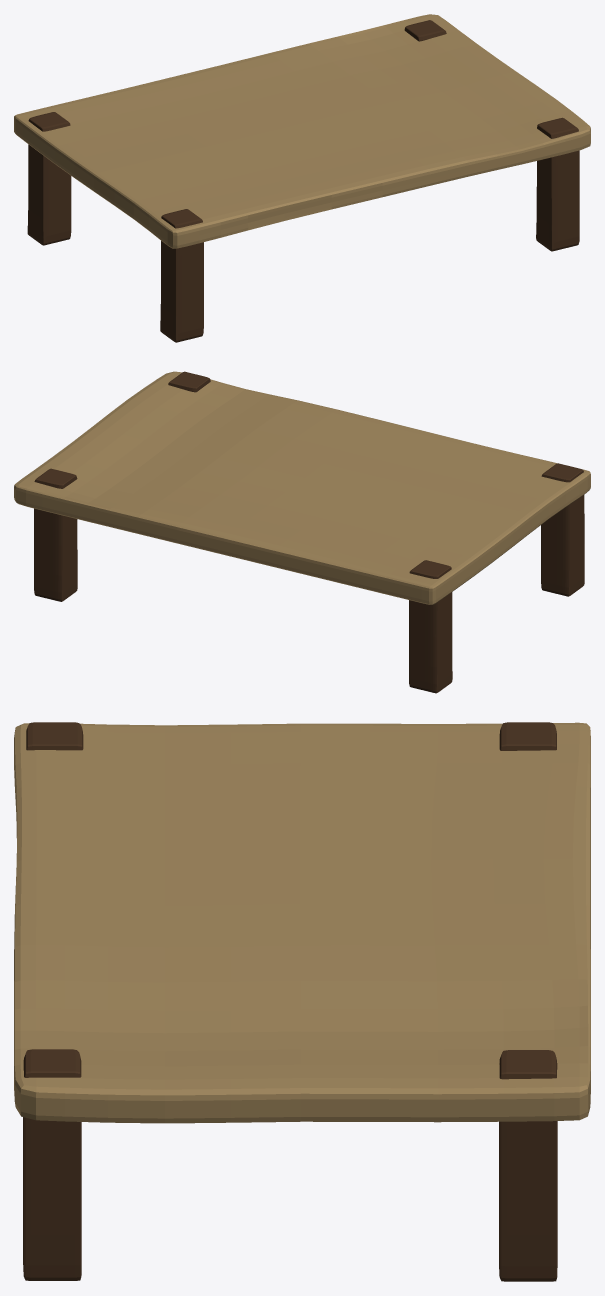
File: Dining_Table (1).fbx
3 renders of one model, top to bottom at view 1: azimuth 30°, elevation 25°; view 2: azimuth 150°, elevation 25°; view 3: azimuth 270°, elevation 25°, orthographic. The views are drawn at different scales.
Parts seen in each view (by area): view 1: Table, Table_leftleg.001, Table_leftleg, Table_rightleg, Table_rightleg.001; view 2: Table, Table_rightleg, Table_rightleg.001, Table_leftleg, Table_leftleg.001; view 3: Table, Table_rightleg.001, Table_leftleg.001, Table_rightleg, Table_leftleg.
Boxes of the visible parts, bbox=[...] form: Table: bbox=[14, 14, 590, 248]; Table_leftleg.001: bbox=[536, 117, 579, 251]; Table_leftleg: bbox=[160, 209, 203, 342]; Table_rightleg: bbox=[27, 112, 71, 245]; Table_rightleg.001: bbox=[404, 20, 446, 41]; Table: bbox=[14, 371, 590, 604]; Table_rightleg: bbox=[409, 560, 452, 693]; Table_rightleg.001: bbox=[34, 468, 77, 601]; Table_leftleg: bbox=[541, 463, 584, 596]; Table_leftleg.001: bbox=[168, 371, 210, 392]; Table: bbox=[14, 722, 590, 1123]; Table_rightleg.001: bbox=[499, 1050, 557, 1281]; Table_leftleg.001: bbox=[23, 1049, 81, 1280]; Table_rightleg: bbox=[499, 722, 556, 750]; Table_leftleg: bbox=[26, 722, 83, 750].
Bounding box in the file's own units: 1106 × 291 × 726.
